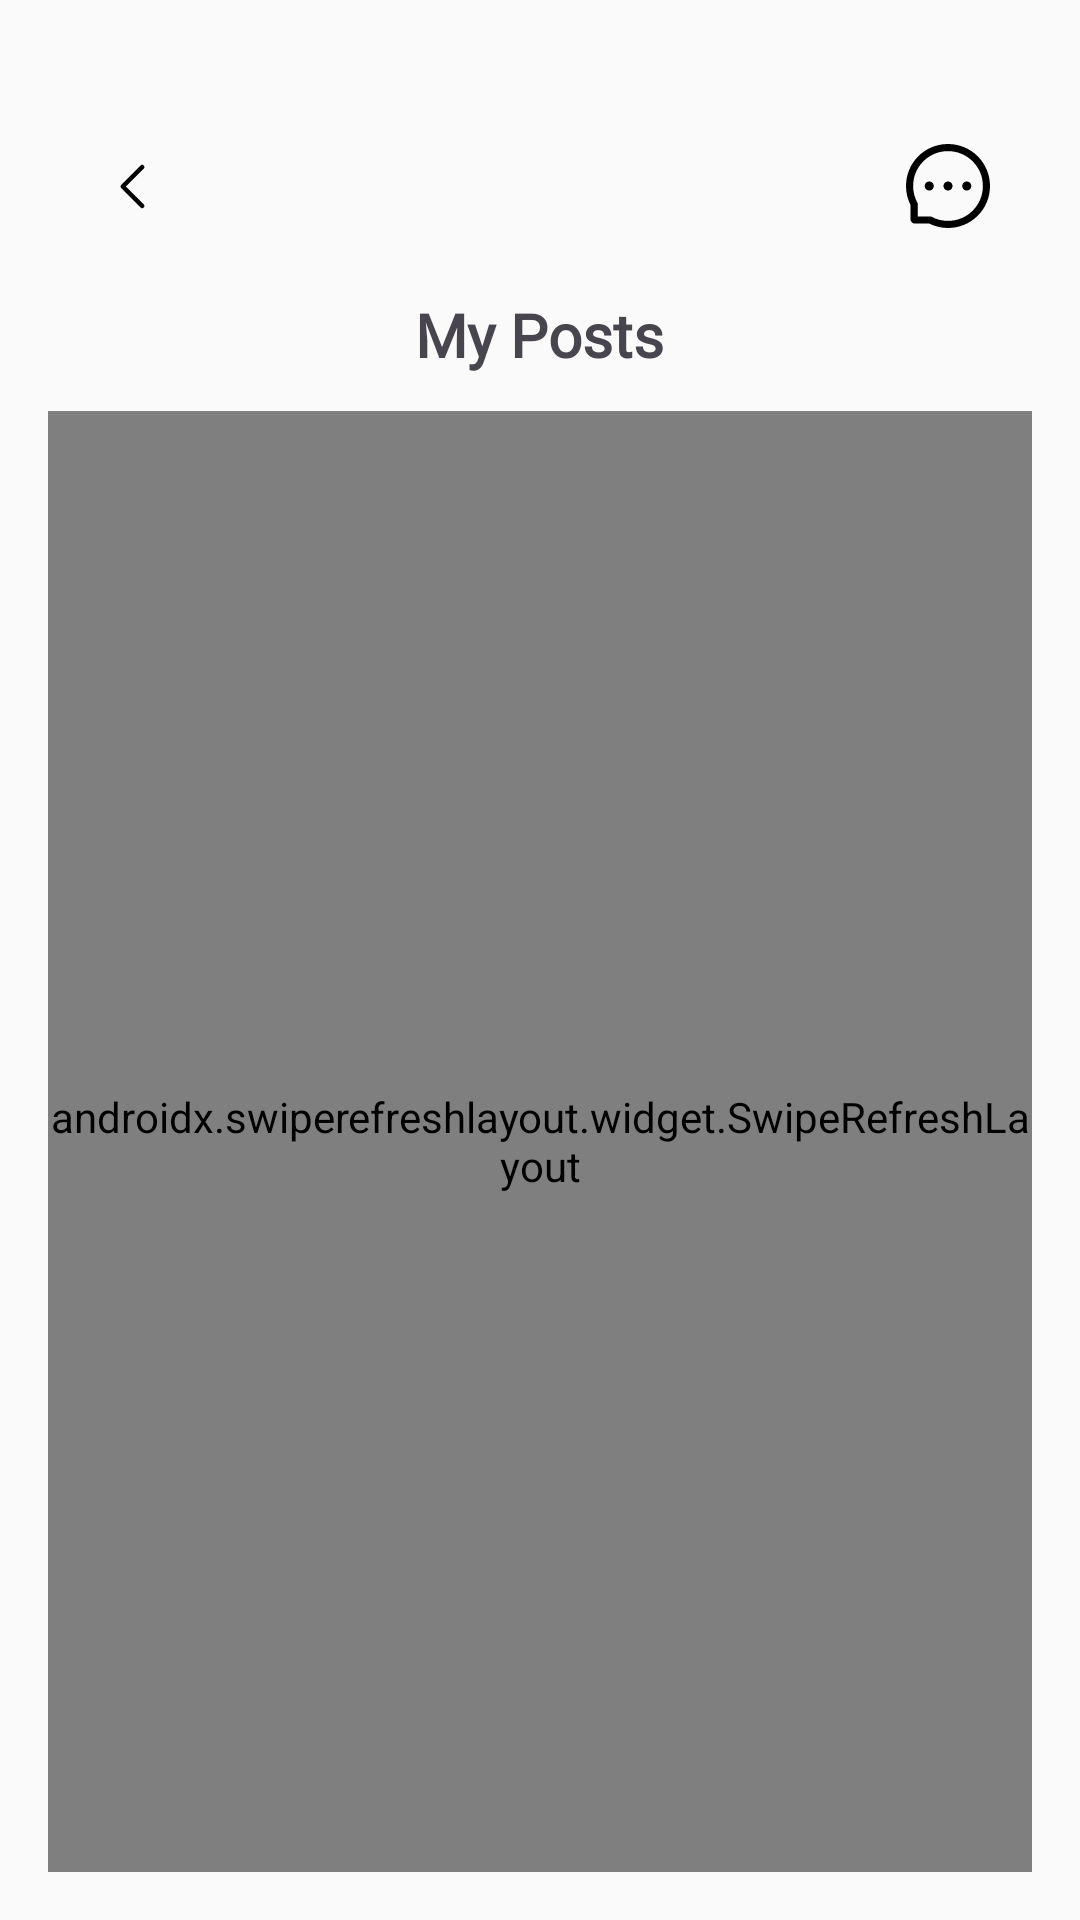

Where icons sit on this 1080 x 1920 app screen, as rect(x1, y1, x2, y2):
Back: rect(120, 164, 145, 209)
